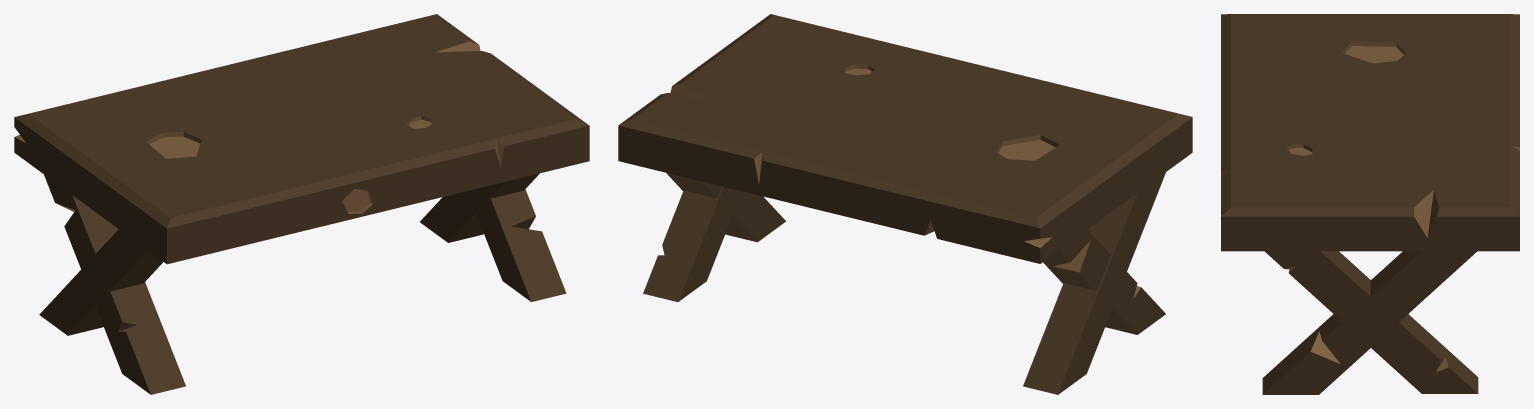
Rendered from Table_4_Brown.fbx.
The picture shows the model from 3 angles, left to right: view 1: azimuth 30°, elevation 25°; view 2: azimuth 150°, elevation 25°; view 3: azimuth 270°, elevation 25°; orthographic projection. The views are drawn at different scales.
Visible parts, largest first — view 1: Table_4_Brown_Part_1, Table_4_Brown_Part_2; view 2: Table_4_Brown_Part_1, Table_4_Brown_Part_2; view 3: Table_4_Brown_Part_1, Table_4_Brown_Part_2.
Boxes of the visible parts, <box> form: Table_4_Brown_Part_1: <box>14,14,589,394</box>; Table_4_Brown_Part_2: <box>15,41,535,331</box>; Table_4_Brown_Part_1: <box>618,14,1192,394</box>; Table_4_Brown_Part_2: <box>662,65,1140,298</box>; Table_4_Brown_Part_1: <box>1221,14,1519,394</box>; Table_4_Brown_Part_2: <box>1221,41,1519,372</box>.
Bounding box in the file's own units: 240 × 102 × 150.
